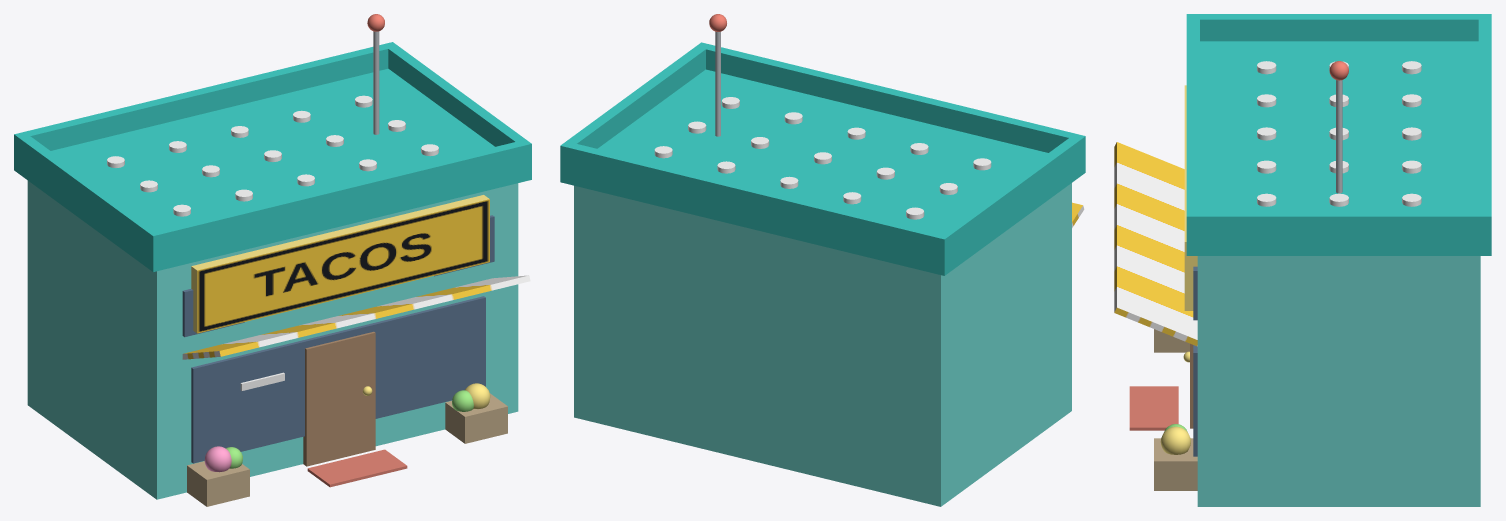
Rendered from shop-tacos.glb.
3 renders of one model, left to right at view 1: azimuth 30°, elevation 25°; view 2: azimuth 150°, elevation 25°; view 3: azimuth 270°, elevation 25°, orthographic. The views are drawn at different scales.
Size of the model in its own units: 4.4 by 4.09 by 3.47.
Materials: 37 (2 with a texture image).
